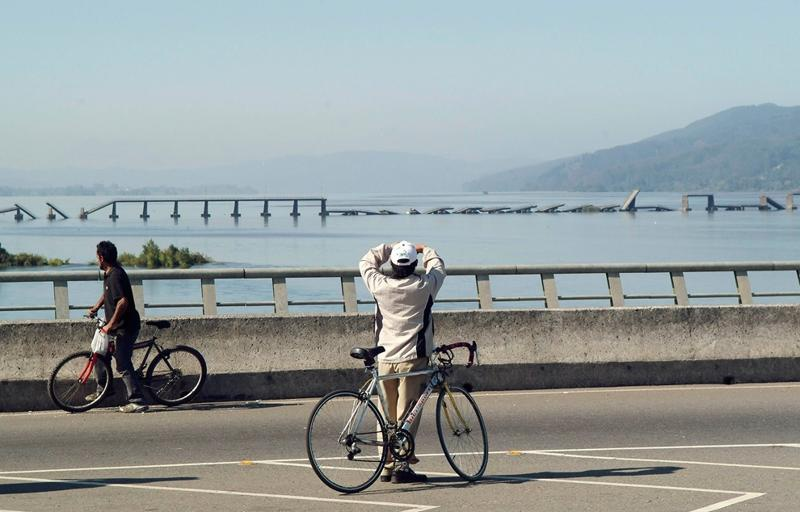non-vehicle: (305, 340, 488, 493), (47, 313, 207, 411)
